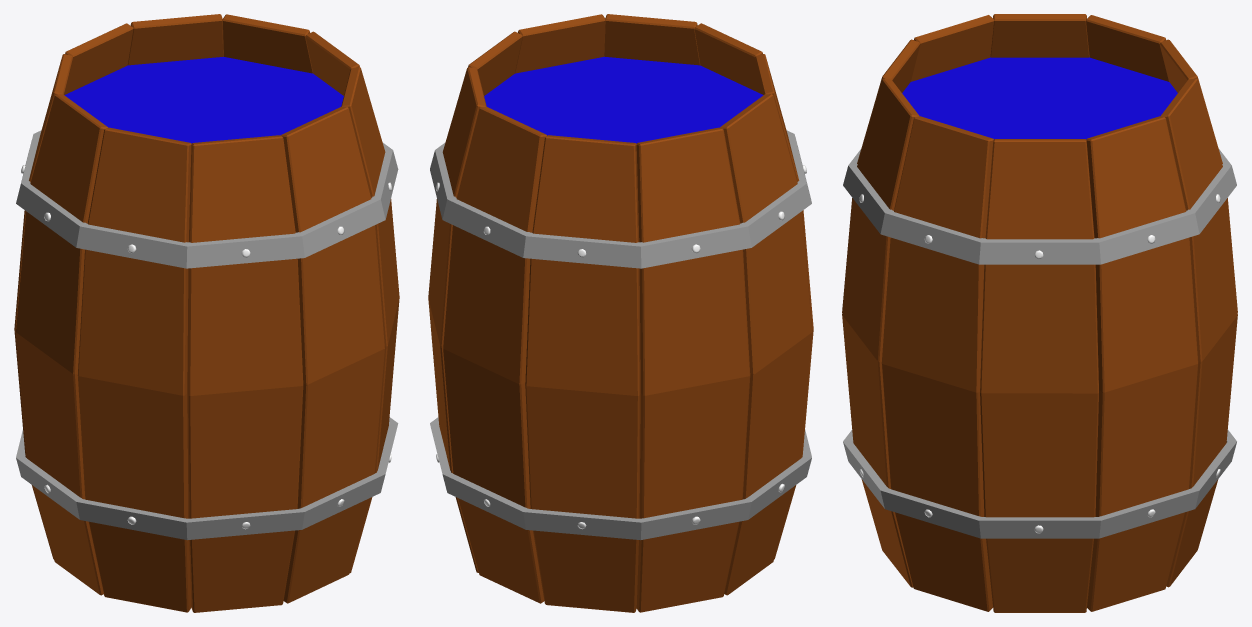
File: BarrelWaterOpen.fbx
3 views of the same model, side by side, from view 1: azimuth 30°, elevation 25°; view 2: azimuth 150°, elevation 25°; view 3: azimuth 270°, elevation 25° (orthographic).
Parts seen in each view (by area): view 1: BarrelWaterOpen_LOD0; view 2: BarrelWaterOpen_LOD0; view 3: BarrelWaterOpen_LOD0.
Part boxes in pixels (<box>): BarrelWaterOpen_LOD0: <box>14,14,399,612</box>; BarrelWaterOpen_LOD0: <box>428,14,813,612</box>; BarrelWaterOpen_LOD0: <box>842,14,1237,612</box>.
Size of what is drawn, in the model's own units: 309 by 425 by 322.
